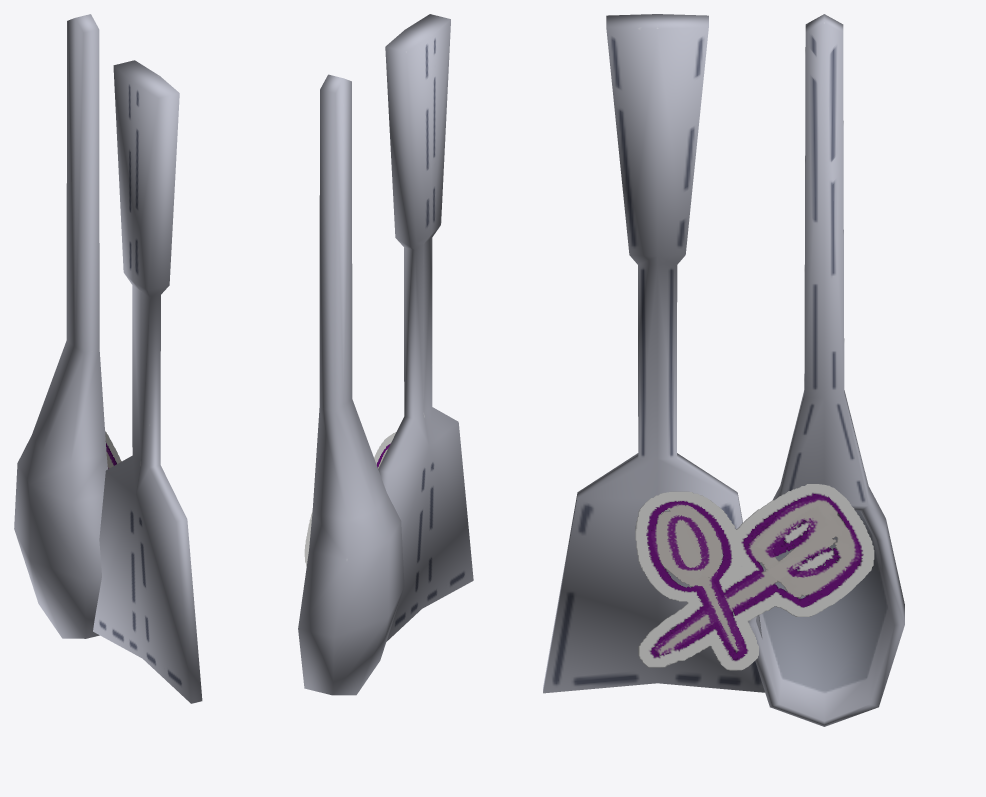
The model's file is ESPATULA.fbx.
The picture shows the model from 3 angles, left to right: view 1: azimuth 30°, elevation 25°; view 2: azimuth 150°, elevation 25°; view 3: azimuth 270°, elevation 25°; orthographic projection. The views are drawn at different scales.
Visible parts, largest first — view 1: espatula; view 2: espatula, Plane.003; view 3: espatula, Plane.003.
Part boxes in pixels (box(x1,y1,x2,y2)): espatula: box(14, 14, 202, 703); espatula: box(298, 14, 473, 695); Plane.003: box(304, 432, 396, 565); espatula: box(543, 14, 904, 726); Plane.003: box(635, 484, 874, 670).
Bounding box in the file's own units: 41.38 × 421 × 236.
2 materials, 2 textured.
